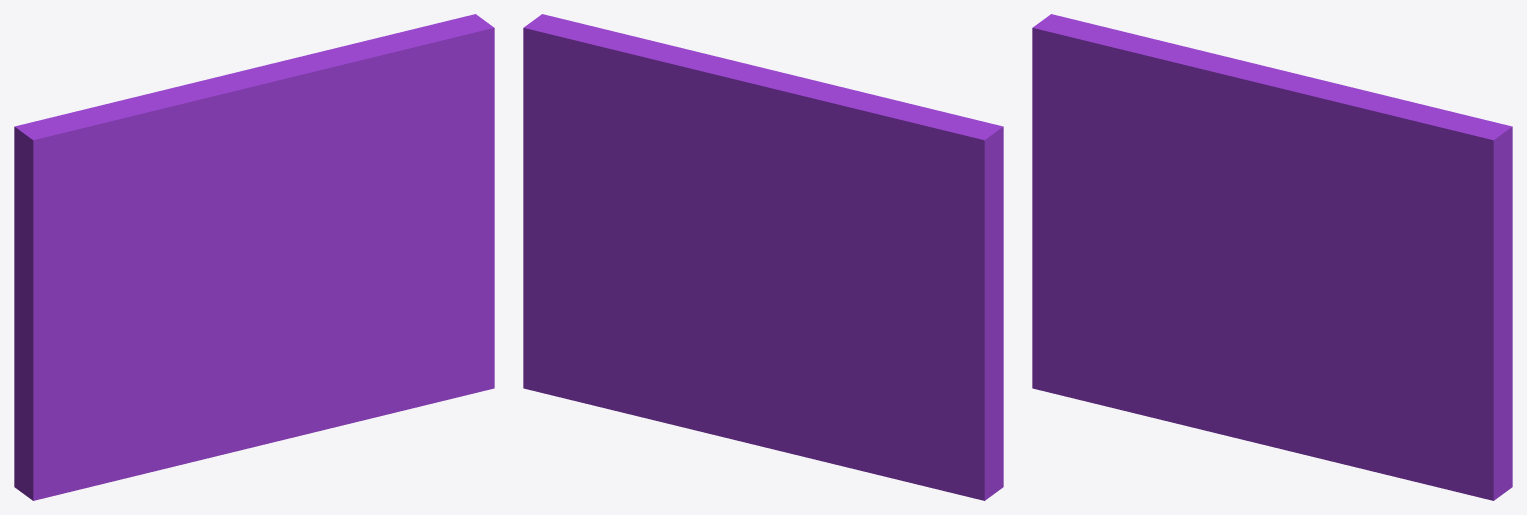
Rendered from Barrier_101_chunks.fbx.
3 renders of one model, left to right at view 1: azimuth 30°, elevation 25°; view 2: azimuth 150°, elevation 25°; view 3: azimuth 330°, elevation 25°, orthographic.
Visible parts, largest first — view 1: Barrier_101_0, Barrier_101_3, Barrier_101_1, Barrier_101_2; view 2: Barrier_101_0, Barrier_101_3, Barrier_101_1; view 3: Barrier_101_0, Barrier_101_3, Barrier_101_1, Barrier_101_2.
Part boxes in pixels (x1,y1,x2,y2): Barrier_101_0: (14, 96, 250, 500); Barrier_101_3: (137, 14, 494, 236); Barrier_101_1: (166, 210, 494, 468); Barrier_101_2: (250, 206, 494, 298); Barrier_101_0: (759, 94, 1003, 500); Barrier_101_3: (523, 14, 871, 265); Barrier_101_1: (523, 208, 861, 470); Barrier_101_0: (1032, 14, 1249, 420); Barrier_101_3: (1164, 44, 1512, 319); Barrier_101_1: (1165, 292, 1512, 500); Barrier_101_2: (1249, 230, 1494, 322).
Bounding box in the file's own units: 385 × 288 × 27.2.
